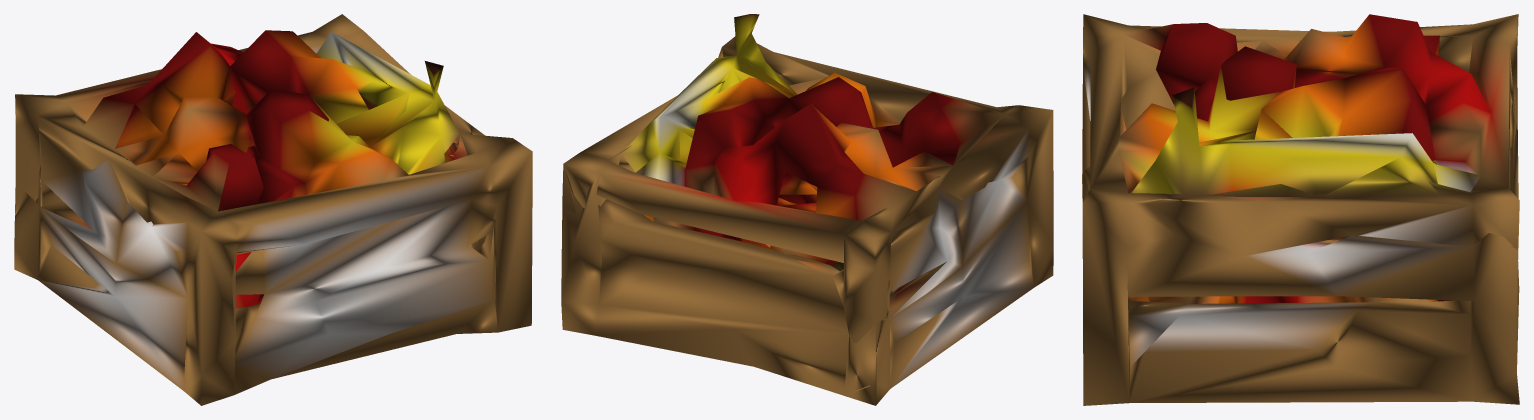
The model's file is gen3d-fruit-crate-lod1.glb.
The picture shows the model from 3 angles, left to right: view 1: azimuth 30°, elevation 25°; view 2: azimuth 150°, elevation 25°; view 3: azimuth 270°, elevation 25°; orthographic projection. The views are drawn at different scales.
Parts seen in each view (by area): view 1: part_0; view 2: part_0; view 3: part_0.
Part boxes in pixels (x1=…): part_0: x1=14, y1=14, x2=532, y2=405; part_0: x1=561, y1=14, x2=1053, y2=405; part_0: x1=1082, y1=14, x2=1519, y2=405.
Bounding box in the file's own units: 1.39 × 0.9795 × 1.36.
